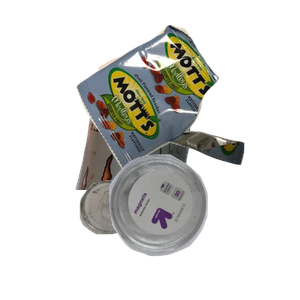glass: (77, 178, 205, 300)
metal: (73, 52, 263, 232)
plastic: (107, 152, 300, 300)
trash: (74, 22, 300, 185)
